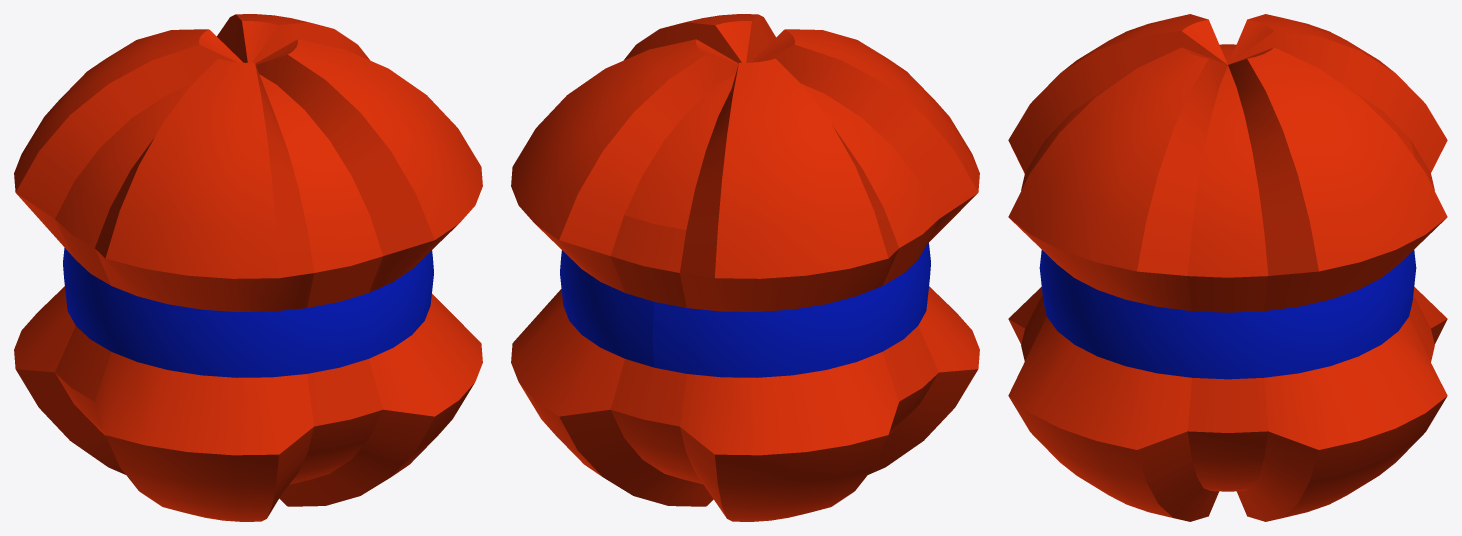
Rendered from Powerup4.fbx.
3 views of the same model, side by side, from view 1: azimuth 30°, elevation 25°; view 2: azimuth 150°, elevation 25°; view 3: azimuth 270°, elevation 25° (orthographic).
Visible parts, largest first — view 1: Sphere; view 2: Sphere; view 3: Sphere.
Part boxes in pixels (left/top/right/bottom): Sphere: left=14, top=14, right=482, bottom=521; Sphere: left=511, top=14, right=979, bottom=521; Sphere: left=1008, top=14, right=1447, bottom=521.
Size of the model in its own units: 3.35 by 3.85 by 3.35.
